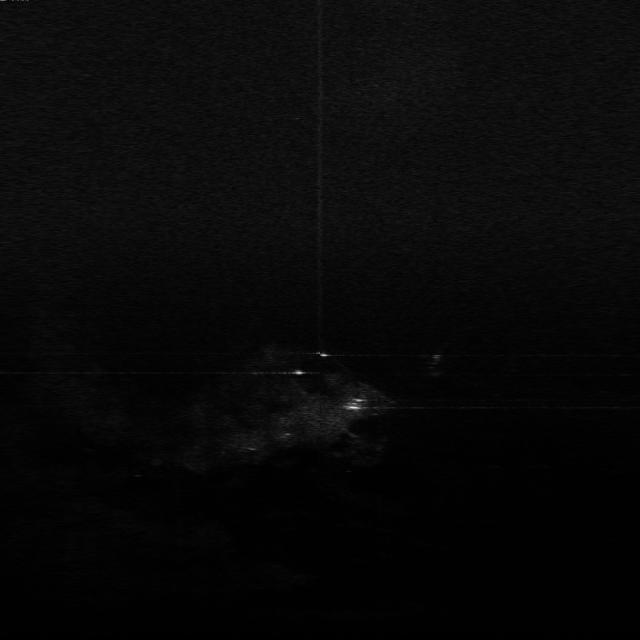rov: (343, 394, 369, 412)
